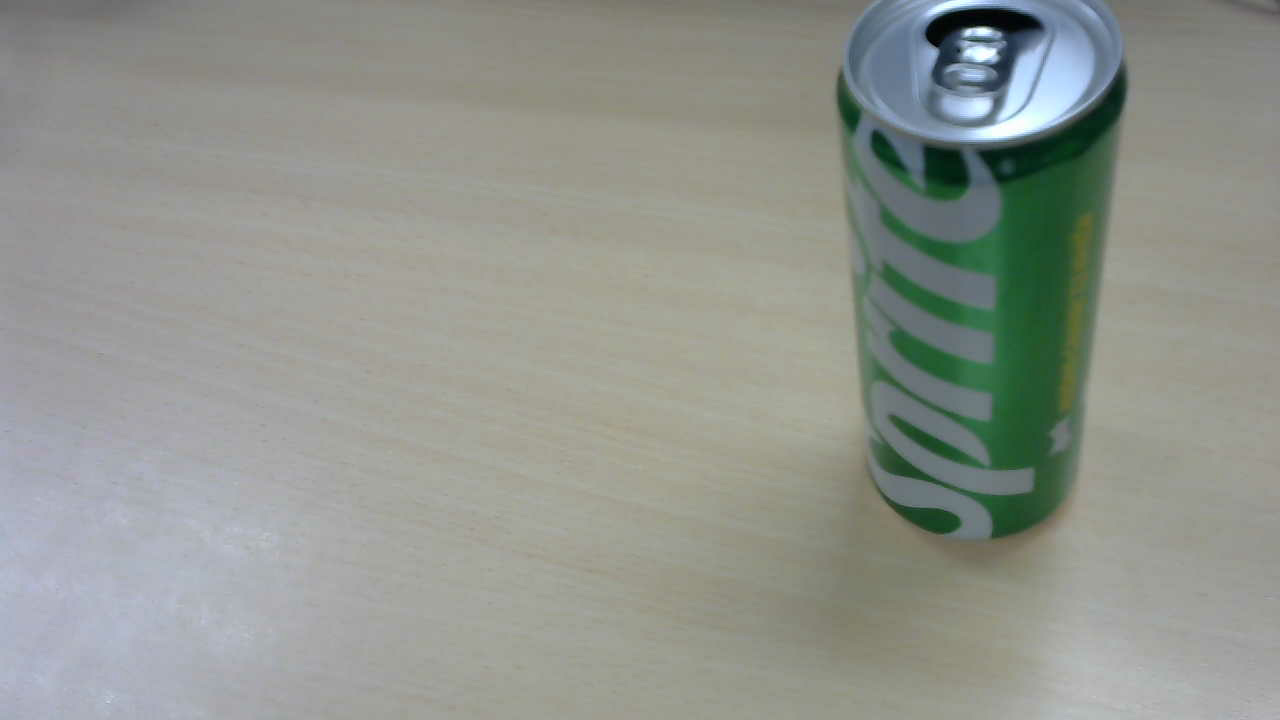Sprite: (838, 8, 1135, 552)
